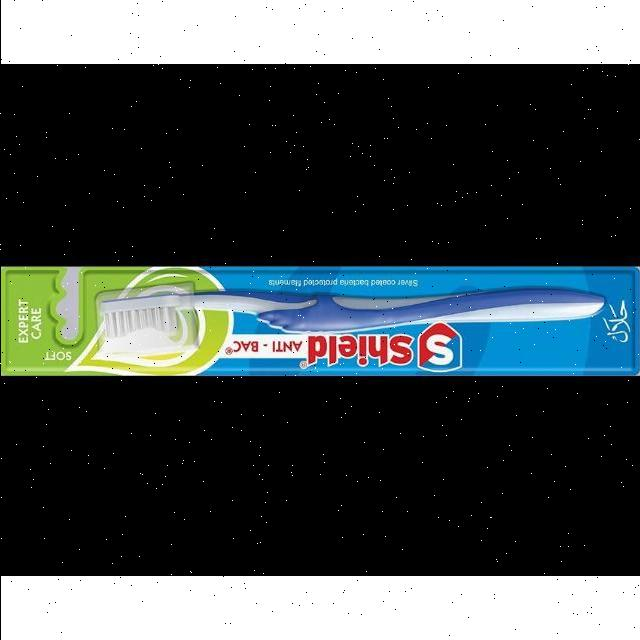toothbrush: (74, 274, 610, 348)
